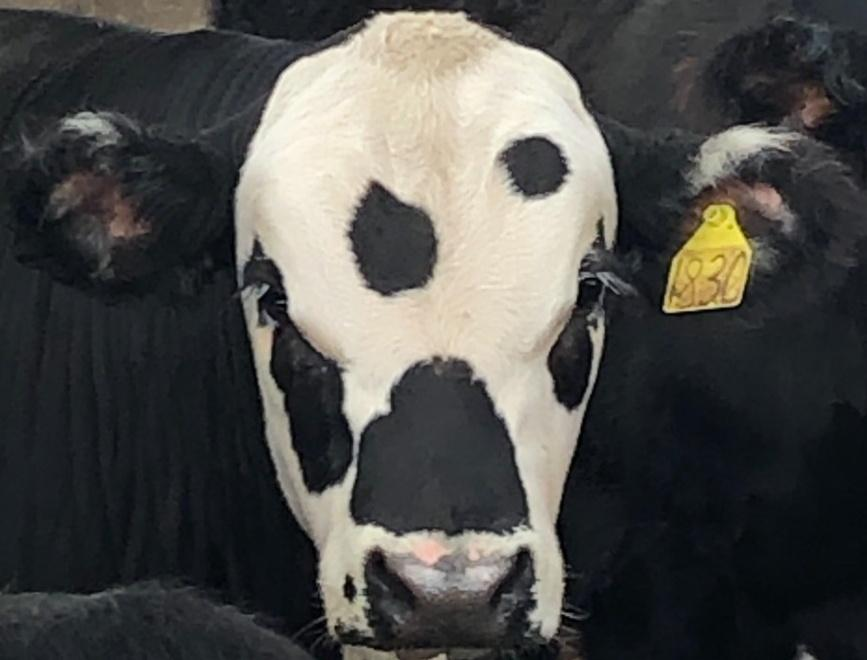muzzles: (319, 526, 571, 654)
